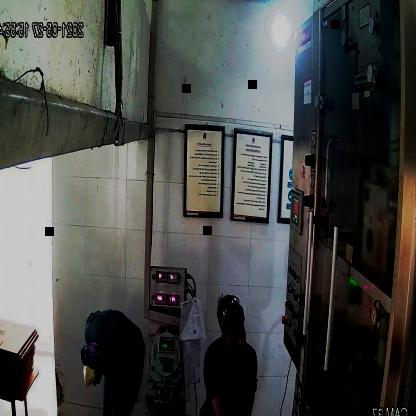no_goggles: (223, 324, 248, 344)
